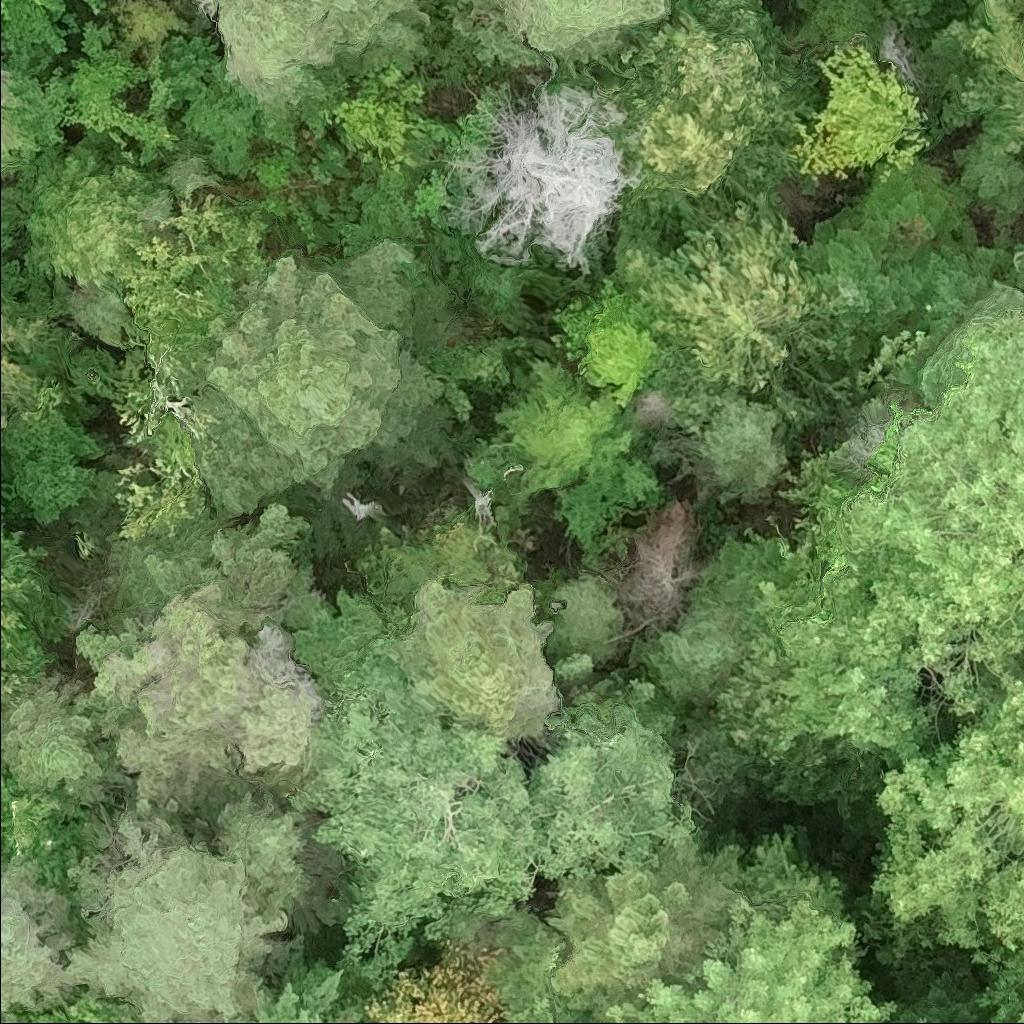crown: (762, 290, 1023, 767), (284, 643, 544, 986), (70, 495, 328, 832), (180, 237, 448, 522), (870, 661, 1023, 1023), (64, 793, 303, 1023), (616, 184, 841, 397), (540, 821, 749, 1023), (440, 74, 645, 277), (596, 894, 901, 1023), (113, 178, 268, 414), (796, 158, 973, 358), (487, 354, 665, 551), (529, 677, 697, 881), (611, 86, 801, 249), (0, 126, 179, 291), (385, 575, 558, 745), (207, 0, 435, 110), (622, 0, 805, 117), (650, 375, 793, 511), (208, 786, 342, 930), (793, 42, 929, 181), (438, 0, 681, 77), (0, 664, 116, 804), (544, 270, 662, 403), (598, 495, 707, 638), (627, 590, 748, 701), (0, 850, 79, 1014), (0, 264, 75, 421), (226, 952, 371, 1023), (534, 570, 627, 665), (0, 519, 55, 673), (951, 130, 1023, 223), (0, 0, 69, 78), (0, 62, 29, 162), (0, 656, 34, 722), (80, 0, 109, 14), (193, 1015, 223, 1023), (1019, 16, 1023, 74), (916, 1016, 946, 1023)
